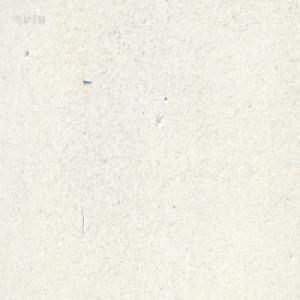Nail: (81, 76, 91, 83)
